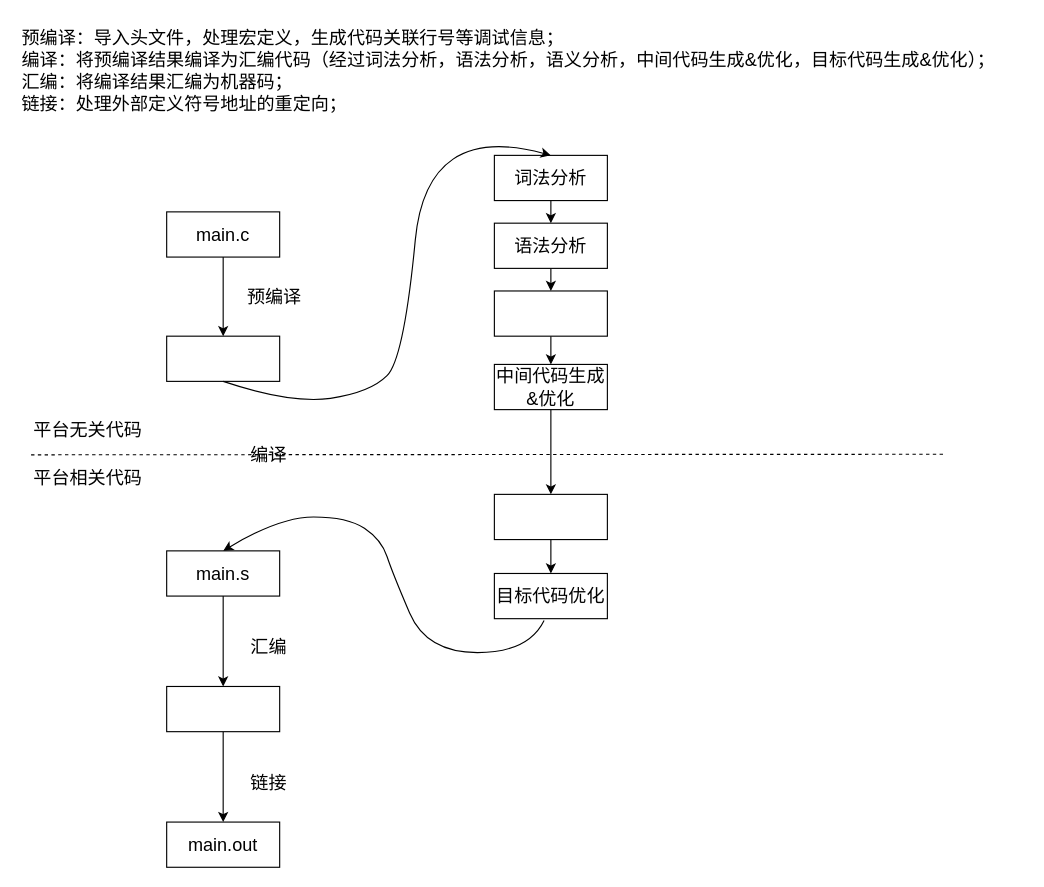
Some shapes in this 1044 by 887 pixel diagram are drawn without their labels. The shapes that lost their labels are listed below. From the top down, each one's box as (x1, y1, x2, y2) in pixels, then its label:
(493, 290, 607, 336): 语义分析
(166, 335, 280, 381): main.i
(493, 493, 607, 540): 目标代码生成
(166, 685, 280, 732): main.o
